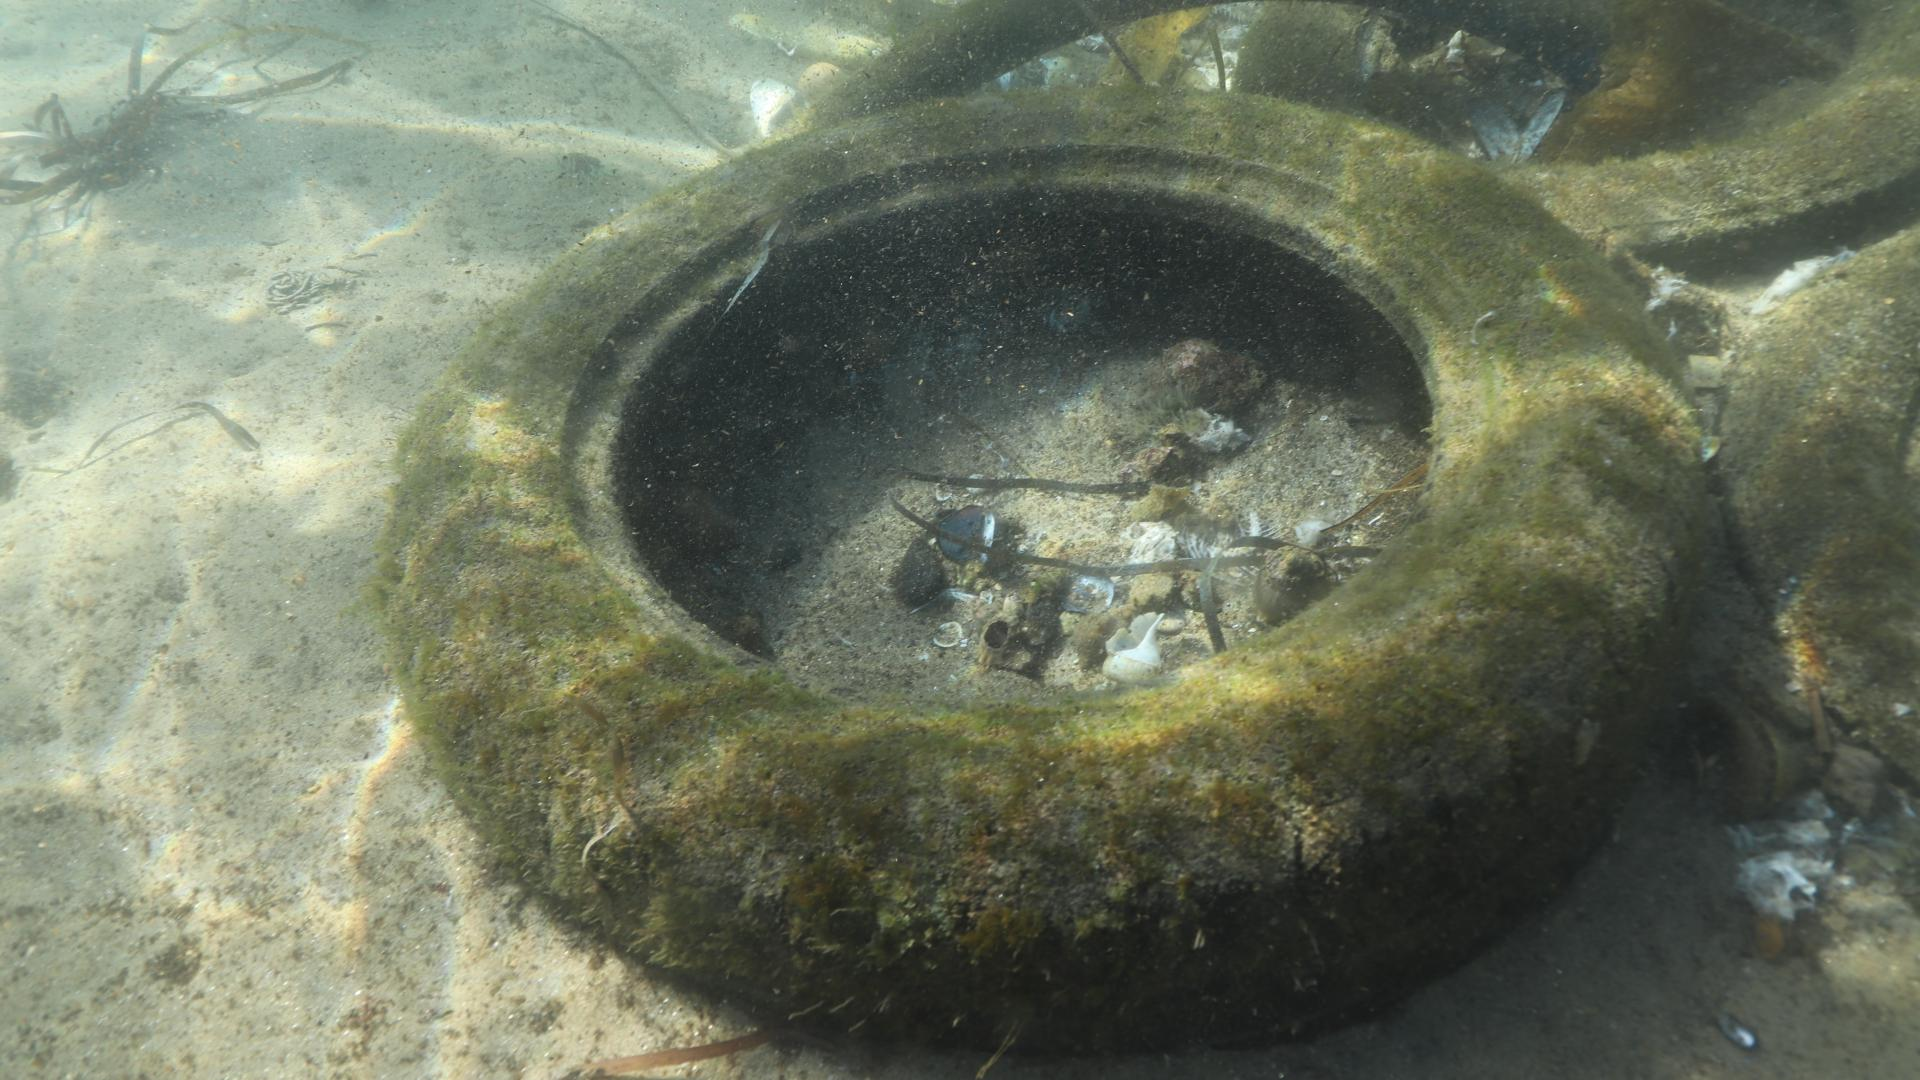tire: (378, 83, 1710, 1080)
